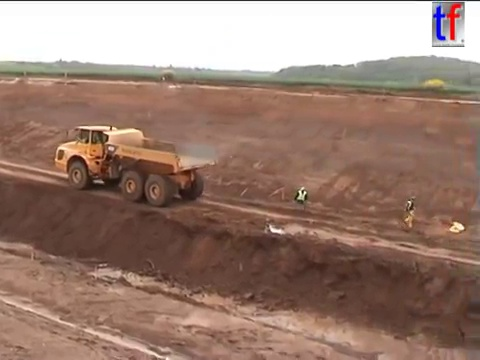truck: (52, 123, 222, 209)
worker: (400, 194, 420, 232), (292, 185, 309, 215)
